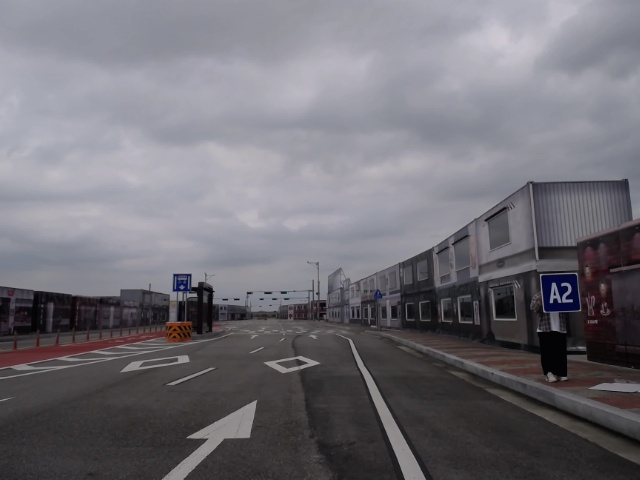delivery_a2: (541, 274, 581, 312)
